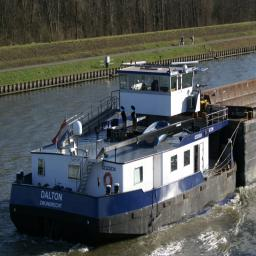tugboat: (8, 61, 240, 247)
